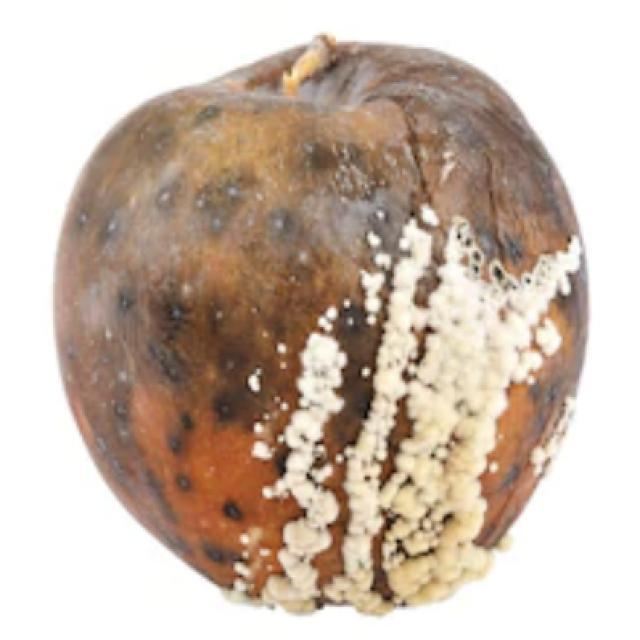Rotten: (47, 28, 593, 612)
